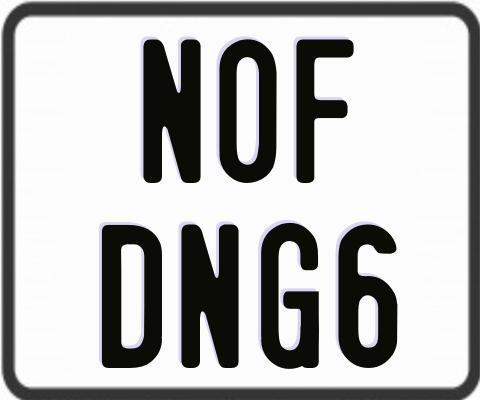0: (216, 38, 277, 185)
6: (338, 221, 400, 365)
D: (100, 225, 163, 371)
F: (296, 36, 358, 180)
G: (258, 223, 317, 371)
N: (179, 224, 241, 368), (142, 36, 201, 181)
